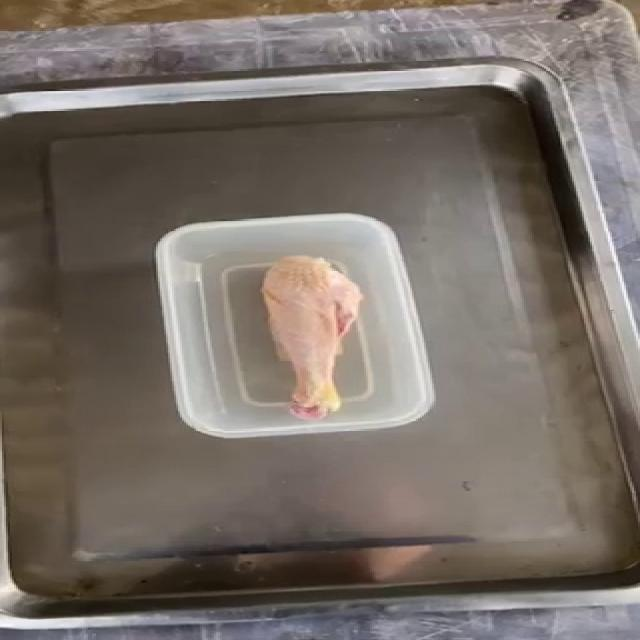chicken: (248, 251, 376, 418)
